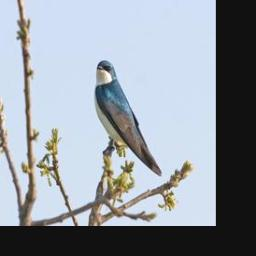Swallow: (91, 54, 165, 178)
